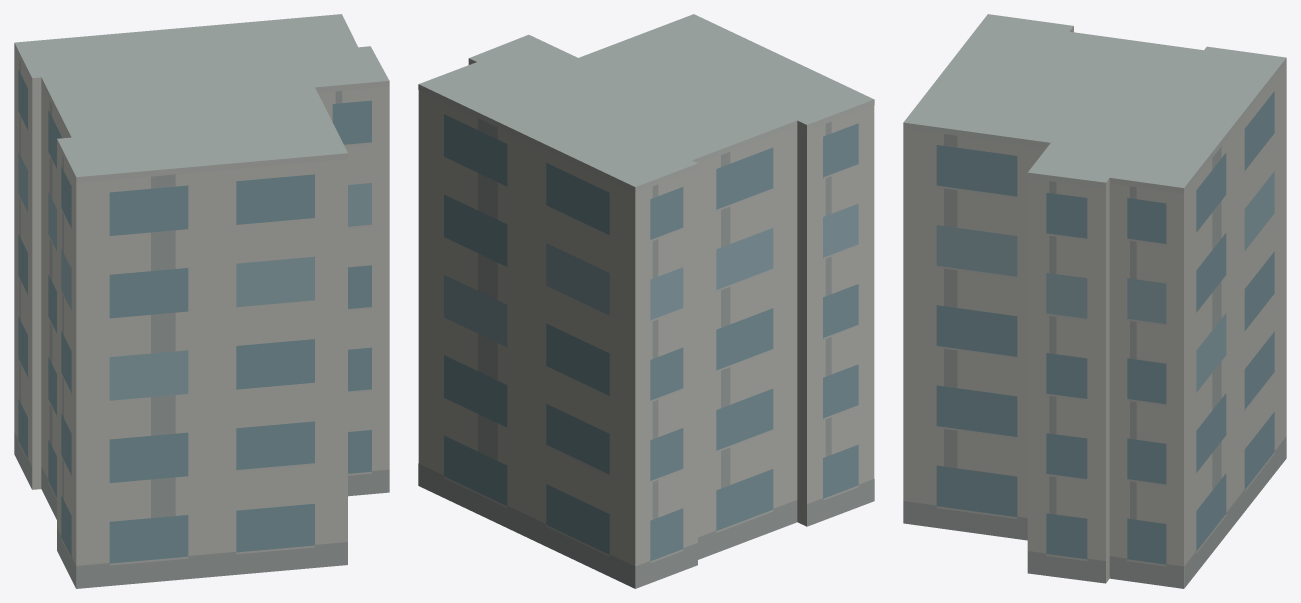
File: survey-upis-32991217.glb
3 views of the same model, side by side, from view 1: azimuth 30°, elevation 25°; view 2: azimuth 150°, elevation 25°; view 3: azimuth 270°, elevation 25° (orthographic). The views are drawn at different scales.
Parts seen in each view (by area): view 1: survey-upis-32991217.tmp; view 2: survey-upis-32991217.tmp; view 3: survey-upis-32991217.tmp.
Boxes of the visible parts, x1,y1,x2,y2 form: survey-upis-32991217.tmp: (14, 14, 389, 588); survey-upis-32991217.tmp: (418, 14, 874, 588); survey-upis-32991217.tmp: (903, 14, 1286, 588).
Bounding box in the file's own units: 15.76 × 16.91 × 14.66.
